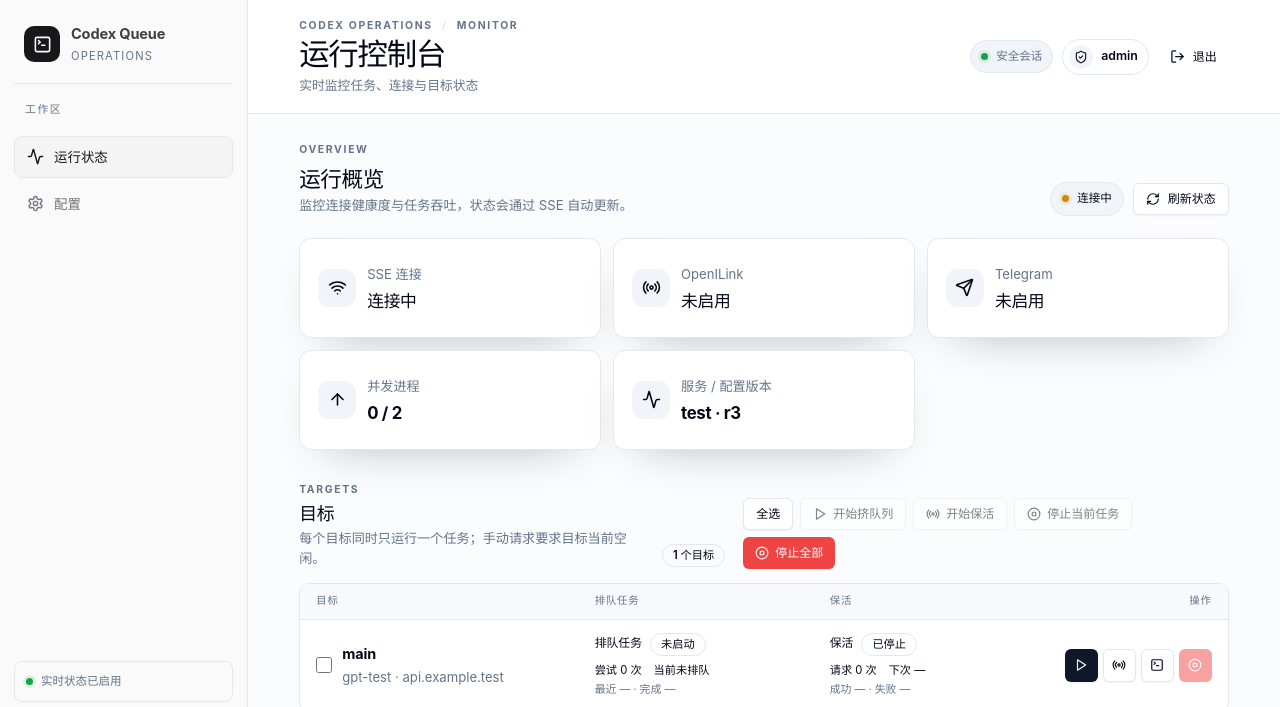
Test: console › reveals a saved target key only after clicking the visibility control
Expected: the heading "main" is shown, x1=342 y1=643 x2=376 y2=664
Step 1. Click the button "配置" → (124, 204), box x1=14 y1=183 x2=233 y2=225
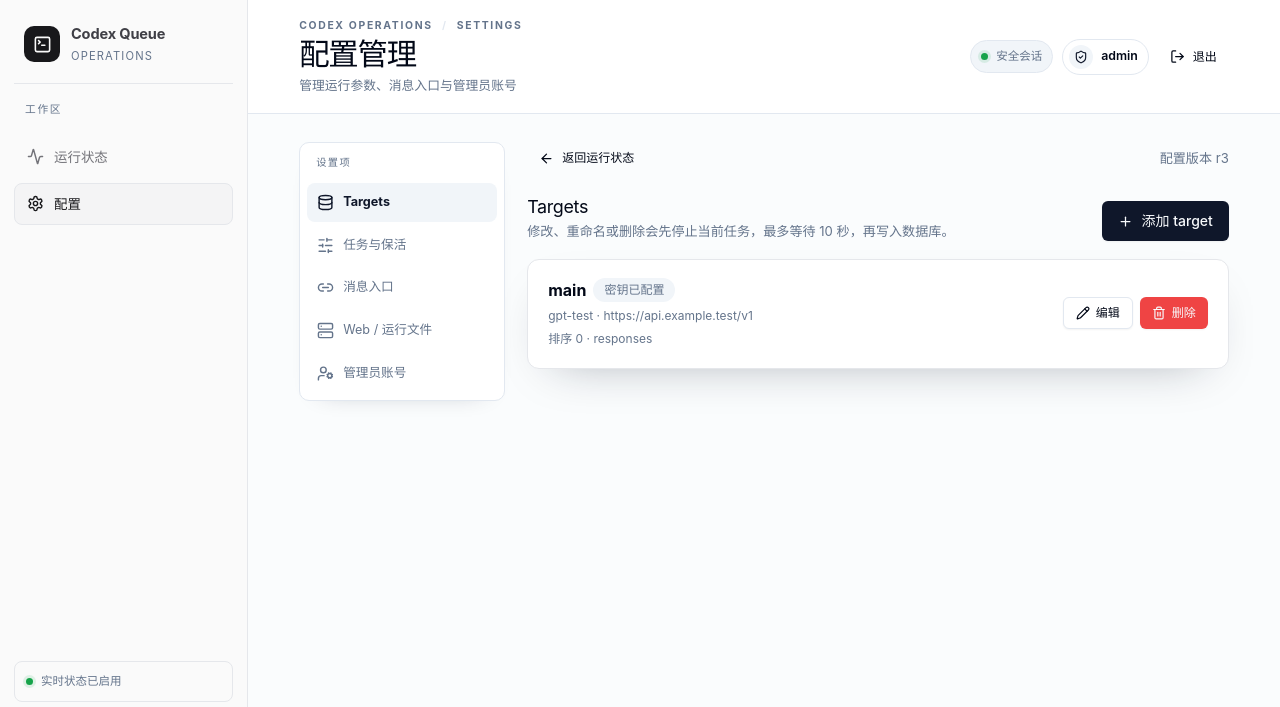
Step 2. Click the button "编辑" → (1098, 314), box x1=1063 y1=298 x2=1133 y2=330
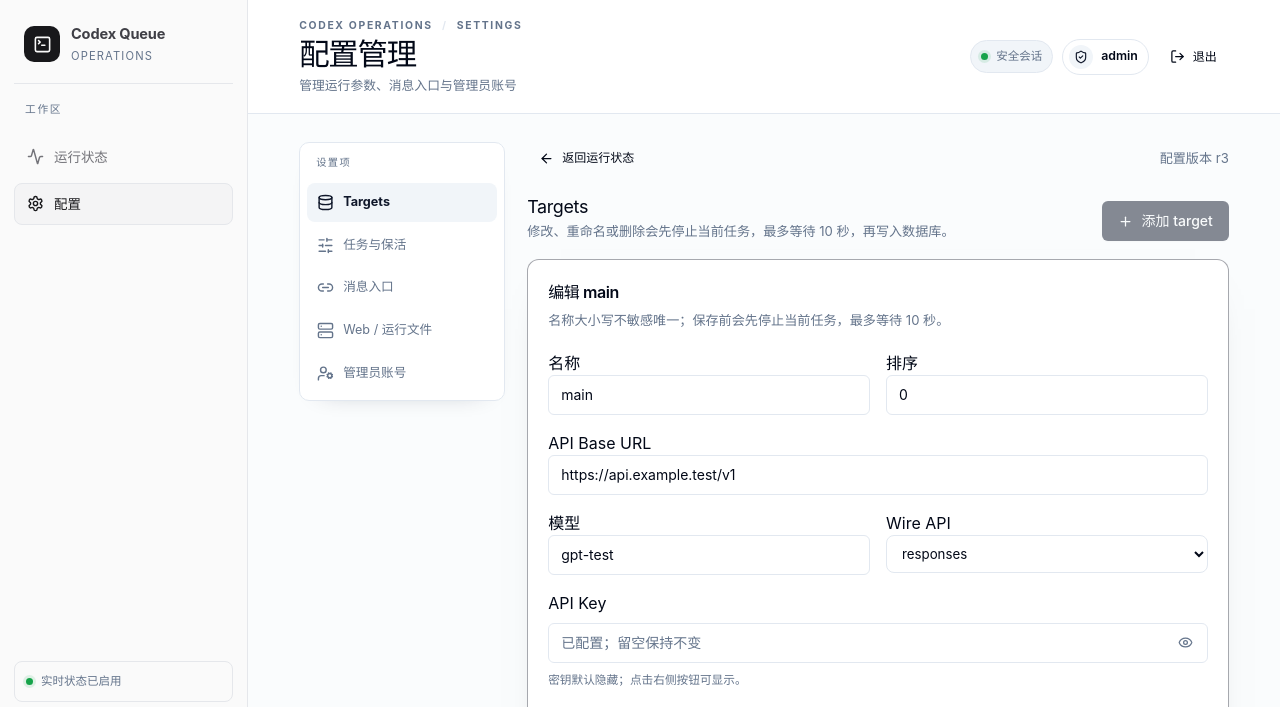
Step 3. Click the button named "显示API Key" → (1186, 643), box x1=1164 y1=621 x2=1208 y2=665
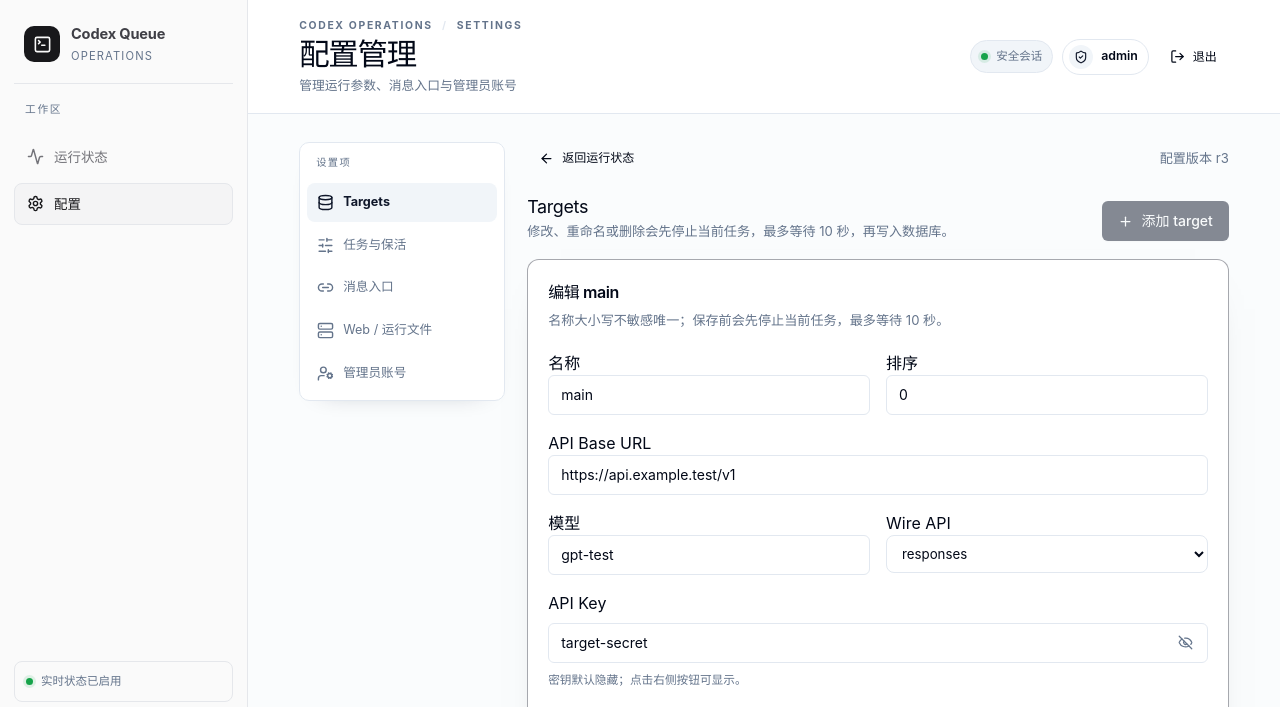
Expected: the field labelled "API Key" holds "target-secret", x1=548 y1=623 x2=1208 y2=663
Expected: the field labelled "API Key" shows its text, x1=548 y1=623 x2=1208 y2=663
Step 4. Click the button named "隐藏API Key" → (1186, 643), box x1=1164 y1=621 x2=1208 y2=665
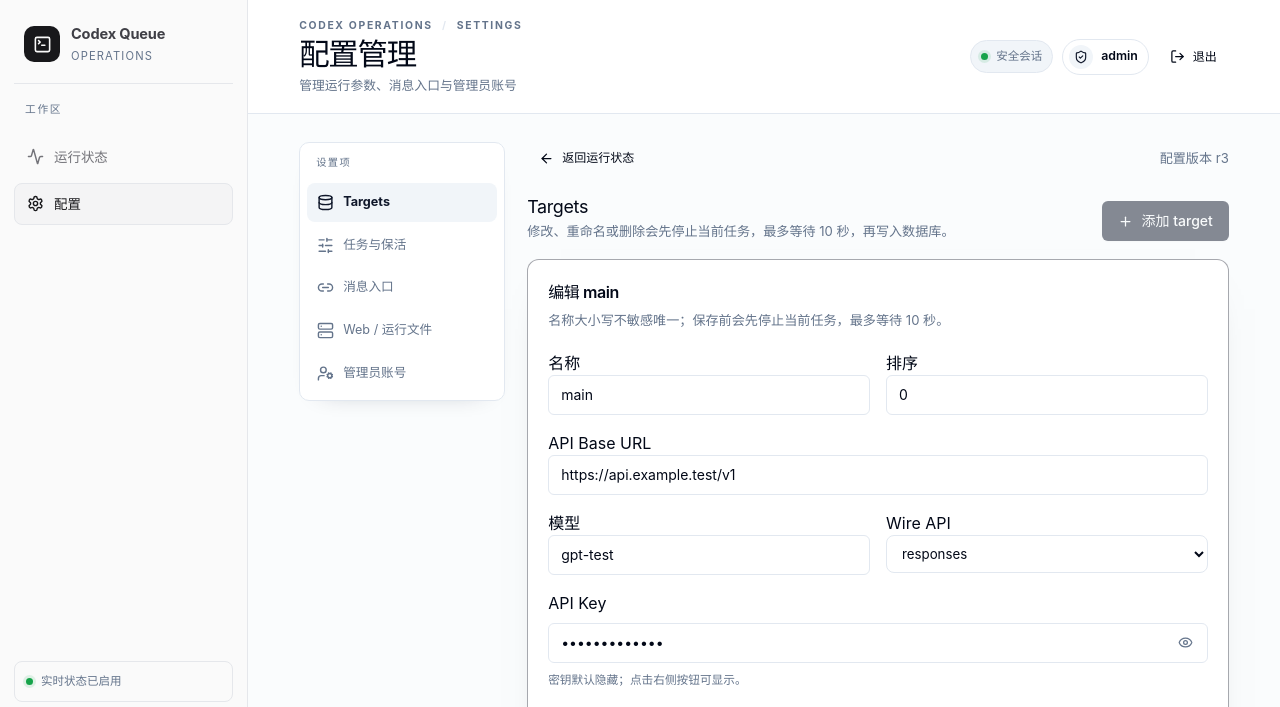
Expected: the password field labelled "API Key" hides its text, x1=548 y1=623 x2=1208 y2=663
